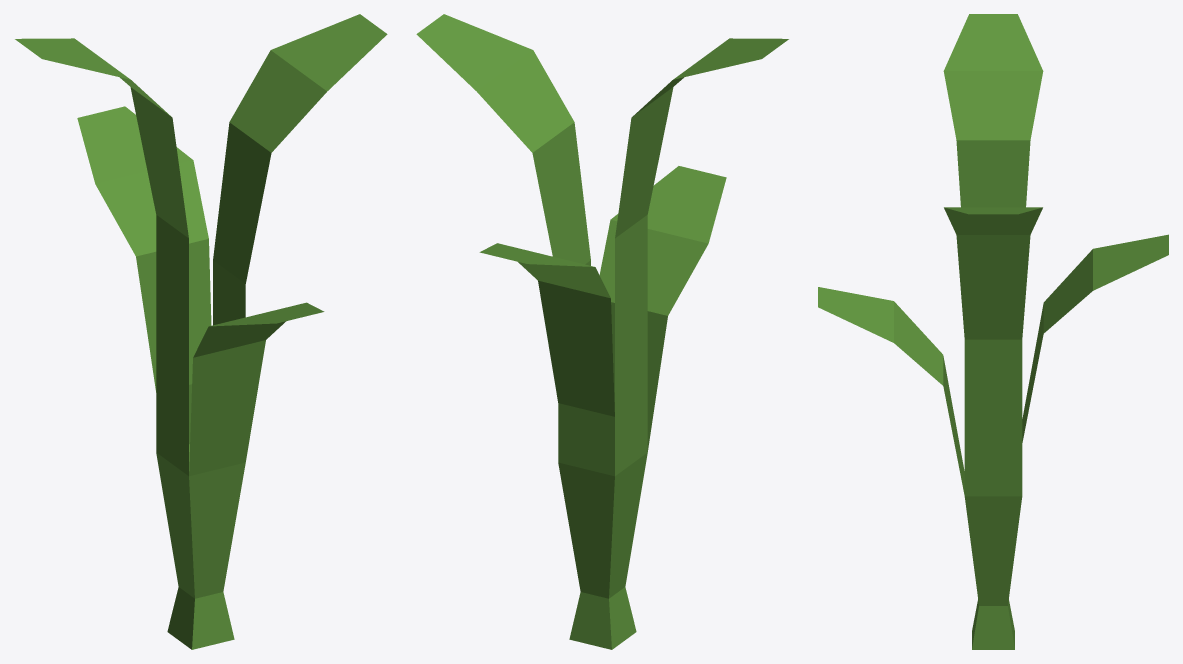
The model's file is crops_leafsStageB.glb.
The picture shows the model from 3 angles, left to right: view 1: azimuth 30°, elevation 25°; view 2: azimuth 150°, elevation 25°; view 3: azimuth 270°, elevation 25°; orthographic projection. The views are drawn at different scales.
Visible parts, largest first — view 1: crops_leafsStageB; view 2: crops_leafsStageB; view 3: crops_leafsStageB.
Part boxes in pixels (x1,y1,x2,y2): crops_leafsStageB: (15,14,387,649); crops_leafsStageB: (416,14,788,649); crops_leafsStageB: (818,14,1168,649).
Size of the model in its own units: 0.3115 by 0.5417 by 0.3115.
